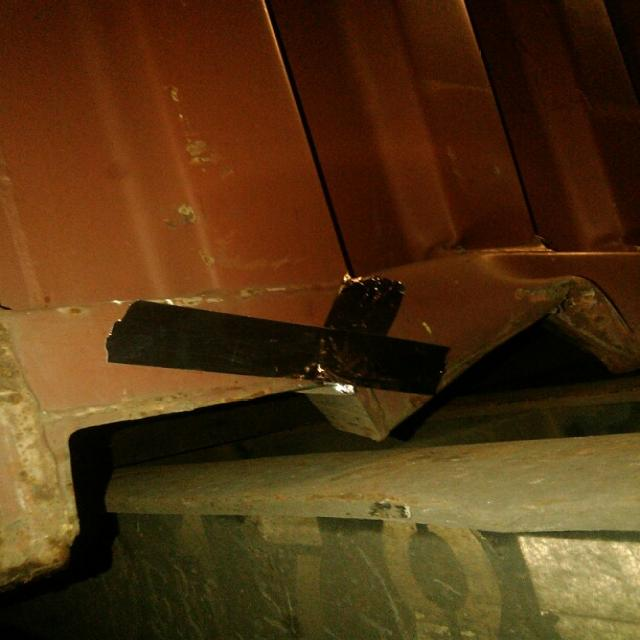dent: (275, 242, 640, 453)
